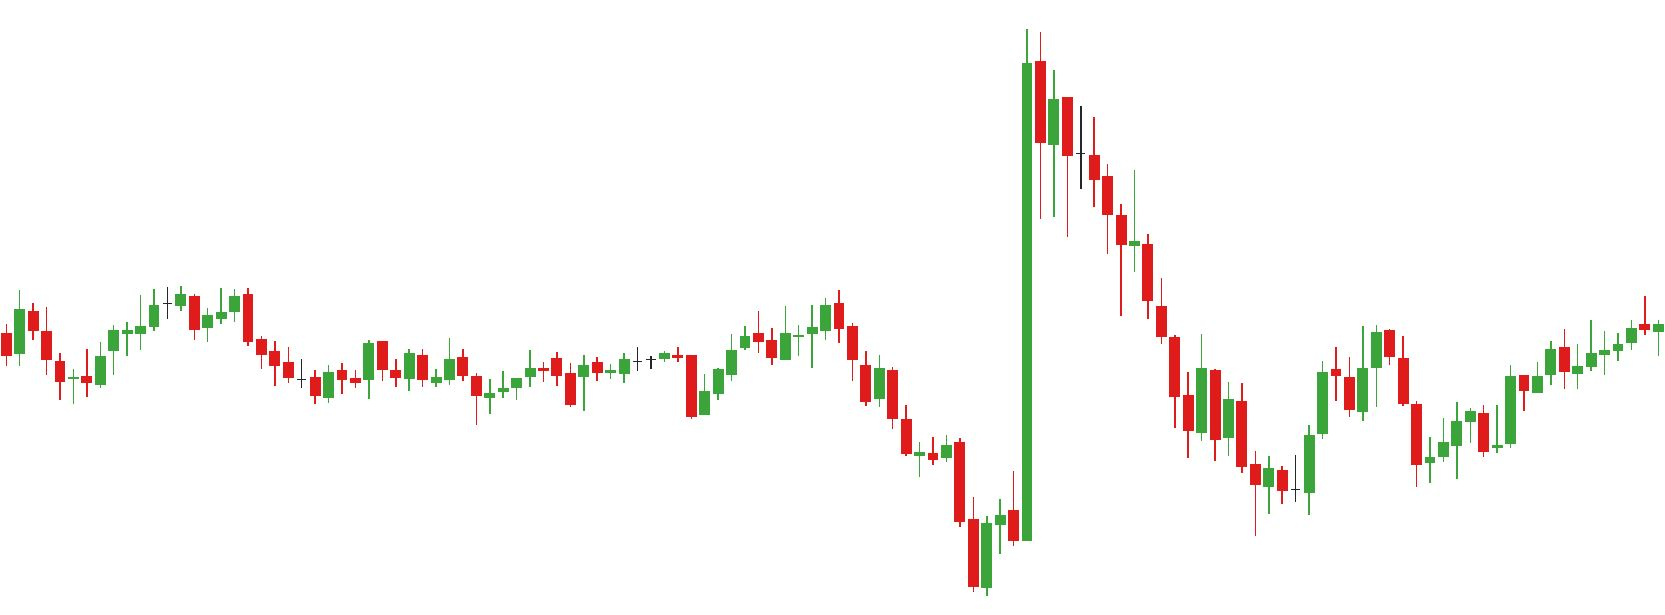buy: (576, 353, 713, 424)
